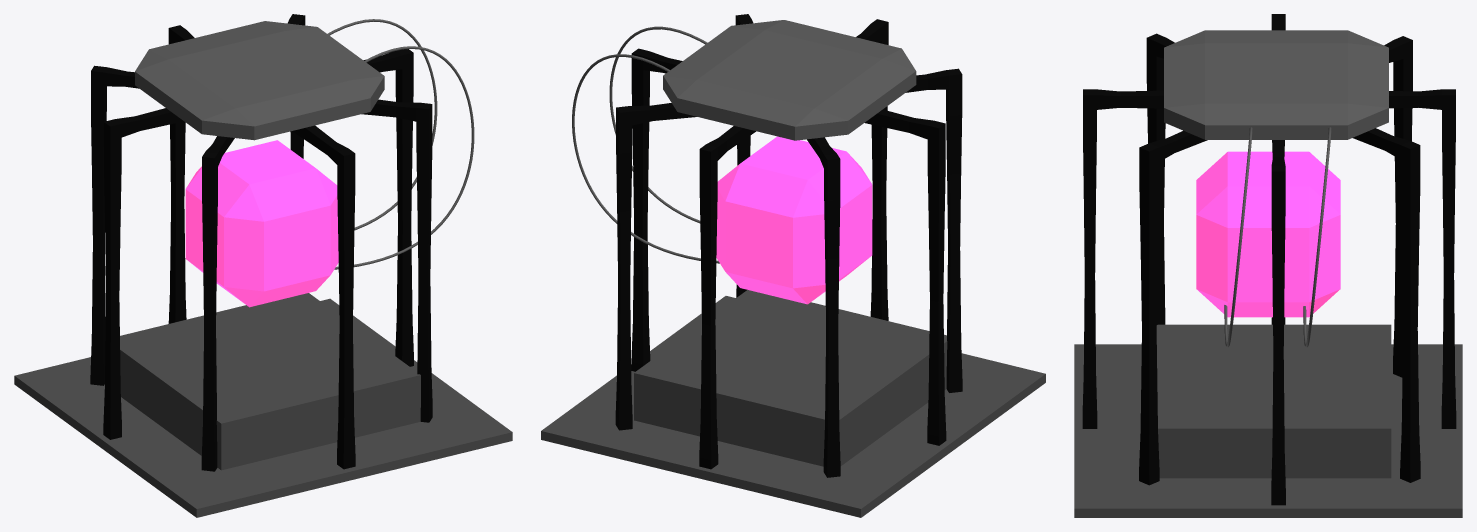
File: PowerStorageLevel4.fbx
The picture shows the model from 3 angles, left to right: view 1: azimuth 30°, elevation 25°; view 2: azimuth 150°, elevation 25°; view 3: azimuth 270°, elevation 25°; orthographic projection. The views are drawn at different scales.
Visible parts, largest first — view 1: Cube.001, Cube, Cube.003, Cube.002, NurbsPath, NurbsPath.001; view 2: Cube.001, Cube, Cube.003, Cube.002, NurbsPath.001, NurbsPath; view 3: Cube.001, Cube, Cube.003, Cube.002, NurbsPath, NurbsPath.001.
Boxes of the visible parts, x1,y1,x2,y2 form: Cube.001: [14, 293, 512, 517]; Cube: [90, 14, 432, 471]; Cube.003: [135, 21, 384, 140]; Cube.002: [185, 140, 338, 307]; NurbsPath: [334, 46, 474, 269]; NurbsPath.001: [327, 19, 437, 230]; Cube.001: [541, 290, 1045, 517]; Cube: [615, 14, 962, 477]; Cube.003: [663, 20, 916, 140]; Cube.002: [716, 136, 872, 304]; NurbsPath.001: [572, 54, 719, 263]; NurbsPath: [609, 26, 707, 223]; Cube.001: [1074, 324, 1462, 517]; Cube: [1082, 14, 1456, 505]; Cube.003: [1164, 30, 1388, 139]; Cube.002: [1196, 151, 1340, 317]; NurbsPath: [1224, 127, 1252, 347]; NurbsPath.001: [1303, 127, 1331, 347].
Size of the model in its own units: 1.91 by 1.76 by 1.71.
